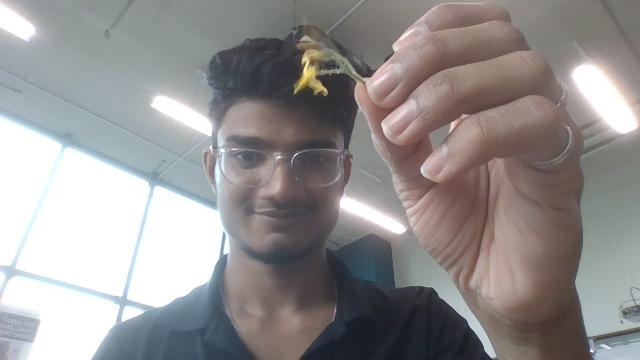Anthesis: (292, 49, 331, 98), (304, 74, 328, 98), (297, 42, 322, 52)
